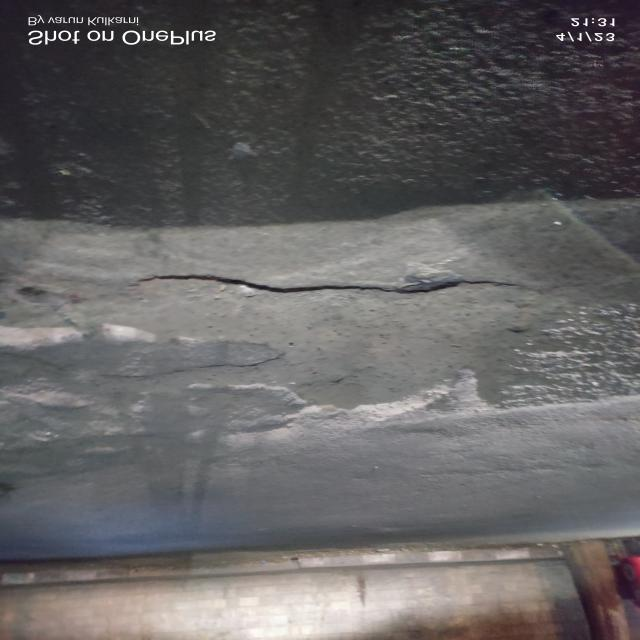potholes: (121, 223, 538, 309)
